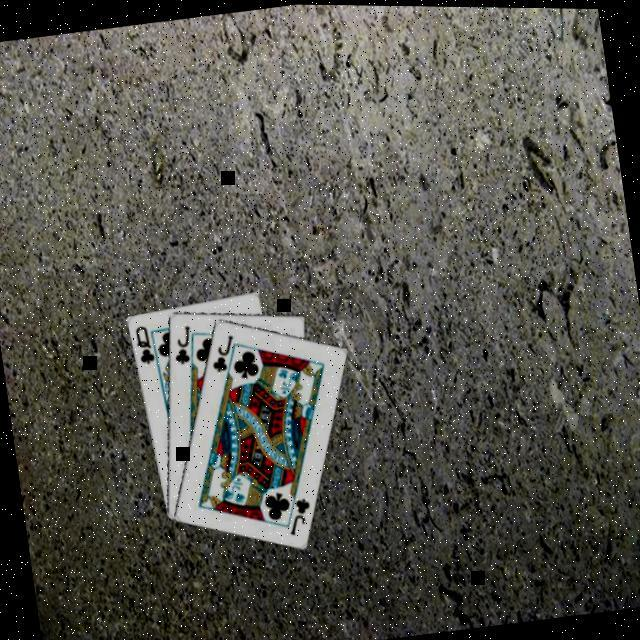JC: (205, 329, 240, 374), (281, 492, 316, 537), (166, 320, 196, 366)
QC: (130, 321, 157, 367)
